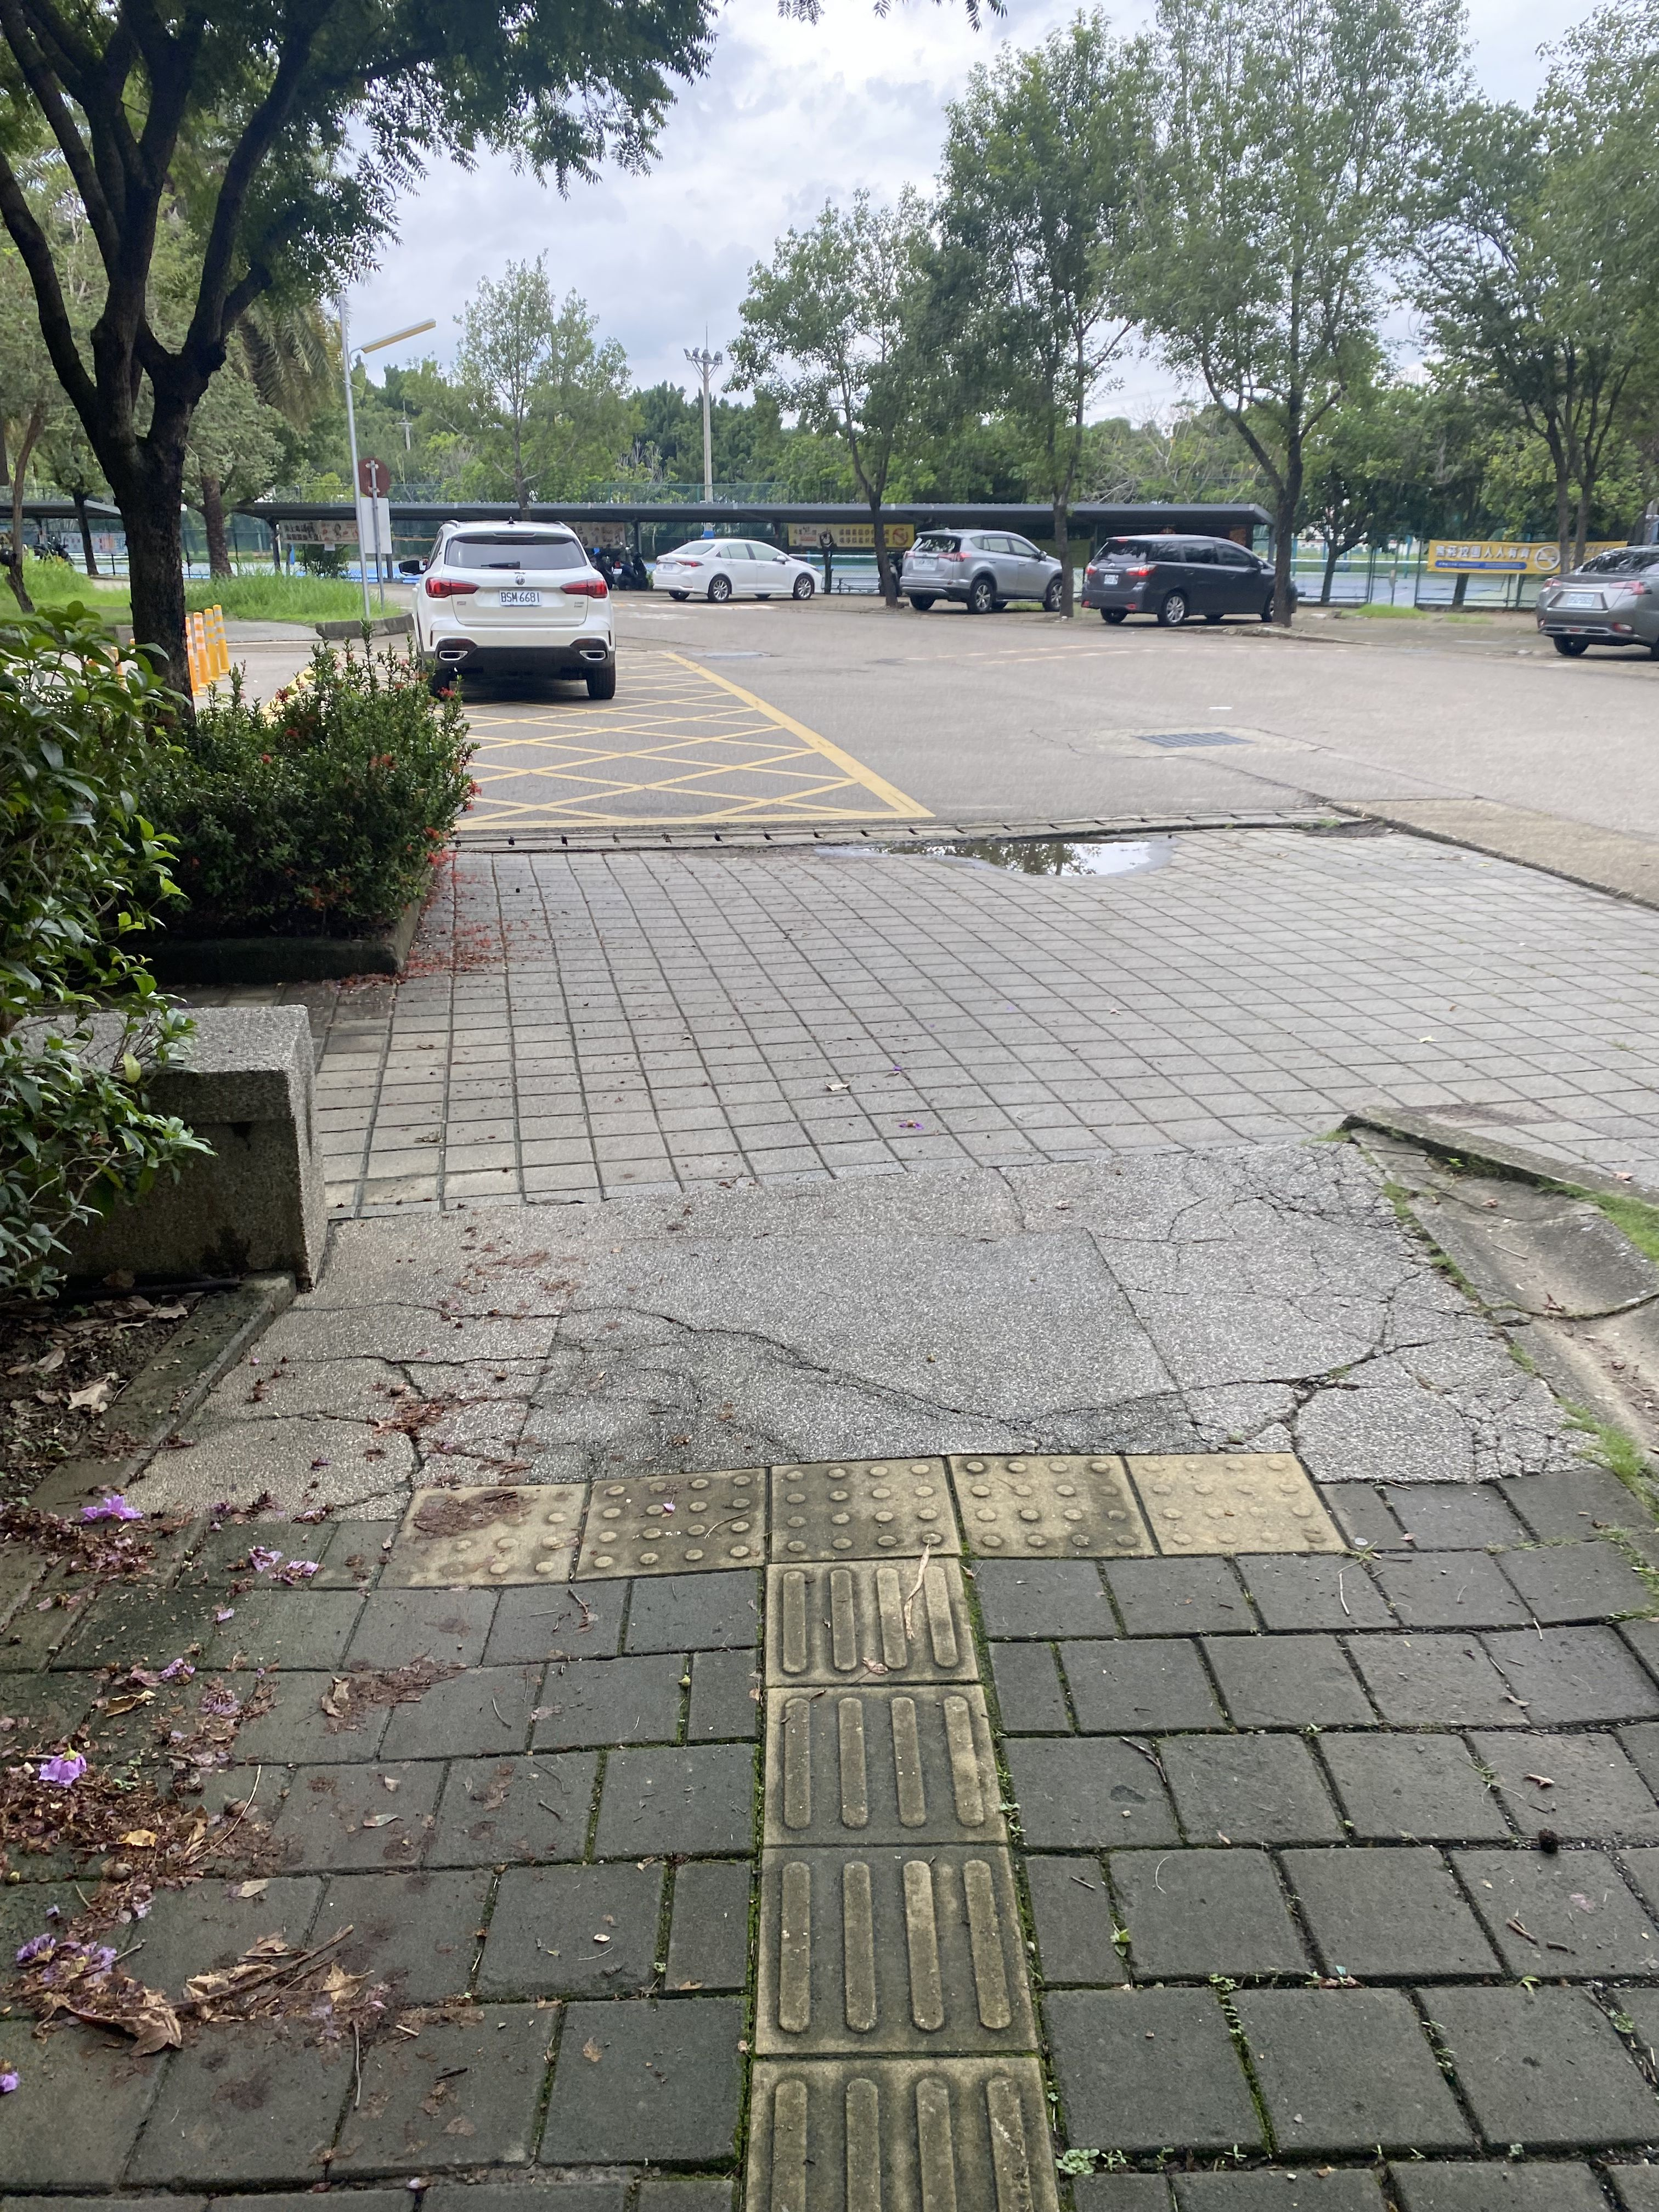sidewalk: (0, 824, 1659, 2212)
